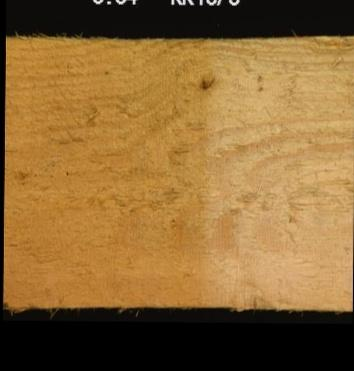split: (284, 187, 336, 220)
